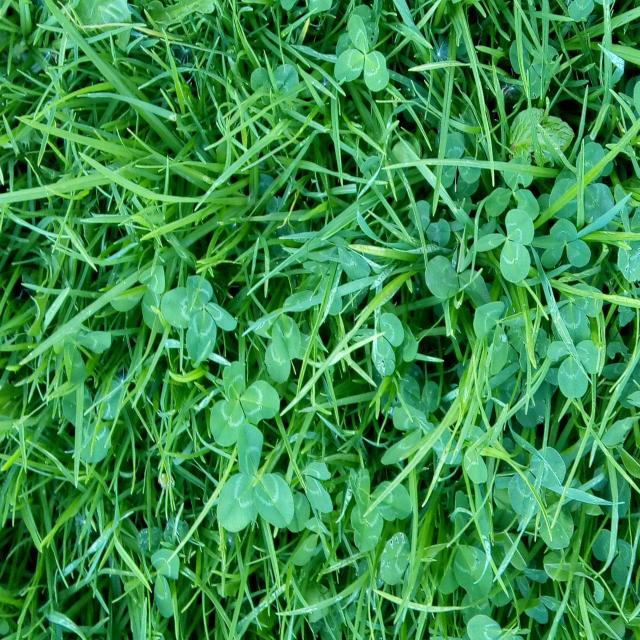Four Leaf Clover: (160, 274, 237, 362)
